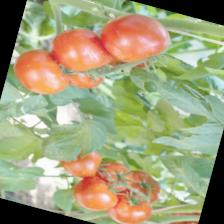tomato: (93, 4, 176, 74), (45, 21, 117, 80), (8, 43, 76, 101), (68, 172, 126, 218), (55, 141, 112, 185), (101, 186, 154, 224)
